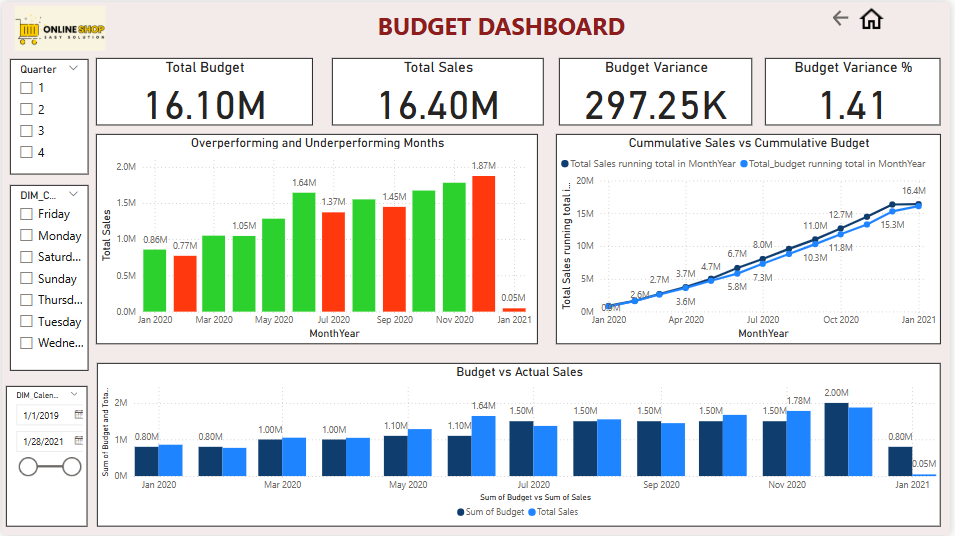

Layout of this report page (visuals, bound fields, positions):
{"tool":"powerbi","page":{"name":"Budget_Dashboard","canvas":[1280,720],"ordinal":4},"visuals":[{"type":"card","title":"Total Budget","fields":{"Values":["Sales_Budget.Total_budget"]},"box":[127.1,75.7,292.9,91.4],"z":0},{"type":"textbox","box":[268.6,4.3,811.4,57.1],"z":1000},{"type":"card","title":"Total Sales","fields":{"Values":["Sales_table.Total Sales"]},"box":[445.7,75.7,285.7,91.4],"z":2000},{"type":"image","box":[1146.2,0,57.6,46.1],"z":3000},{"type":"card","title":"Budget Variance","fields":{"Values":["Sales_table.Budget_Variance"]},"box":[752.9,75.7,261.4,91.4],"z":4000},{"type":"actionButton","box":[1118.9,7.2,36,30.2],"z":5000},{"type":"card","title":"Budget Variance %","fields":{"Values":["Sales_table.Budget Variance %"]},"box":[1031.4,75.7,237.1,91.4],"z":6000},{"type":"clusteredColumnChart","title":"Budget vs Actual Sales","fields":{"Category":["DIM_Calendar.MonthYear"],"Y":["Sum(Sales_Budget.Budget)","Sales_table.Total Sales"]},"box":[127.8,487.5,1140.3,220.8],"z":8000},{"type":"image","box":[0,0,157.1,71.4],"z":9000},{"type":"lineChart","title":"Cummulative Sales vs Cummulative Budget","fields":{"Category":["DIM_Calendar.MonthYear"],"Y":["Sales_table.Total Sales running total in MonthYear","Sales_Budget.Total_budget running total in MonthYear"]},"box":[748.6,178.6,520,284.3],"z":10000},{"type":"clusteredColumnChart","title":"Overperforming and Underperforming Months","fields":{"Category":["DIM_Calendar.MonthYear"],"Y":["Sales_table.Total Sales"]},"box":[127.1,178.6,597.1,284.3],"z":11000},{"type":"slicer","fields":{"Values":["DIM_Calendar.Quarter"]},"box":[11.1,76.4,105.6,155.6],"z":12000},{"type":"slicer","fields":{"Values":["Sales_table.DIM_Calendar.Day"]},"box":[11.1,247.2,105.6,251.4],"z":13000},{"type":"slicer","fields":{"Values":["Sales_table.DIM_Calendar.Date"]},"box":[6,519.4,110.4,189.6],"z":14000}]}

Visuals, with their boxes in screenshot pixels (x1, y1, x2, y2), scaled from the page's 1280x720 canvas onto the 955x536 screenshot:
"Total Budget" card: 95/56/313/124
textbox: 200/3/806/46
"Total Sales" card: 333/56/546/124
image: 855/0/898/34
"Budget Variance" card: 562/56/757/124
actionButton: 835/5/862/28
"Budget Variance %" card: 770/56/946/124
"Budget vs Actual Sales" clusteredColumnChart: 95/363/946/527
image: 0/0/117/53
"Cummulative Sales vs Cummulative Budget" lineChart: 559/133/946/345
"Overperforming and Underperforming Months" clusteredColumnChart: 95/133/540/345
slicer - DIM_Calendar.Quarter: 8/57/87/173
slicer - Sales_table.DIM_Calendar.Day: 8/184/87/371
slicer - Sales_table.DIM_Calendar.Date: 4/387/87/528
